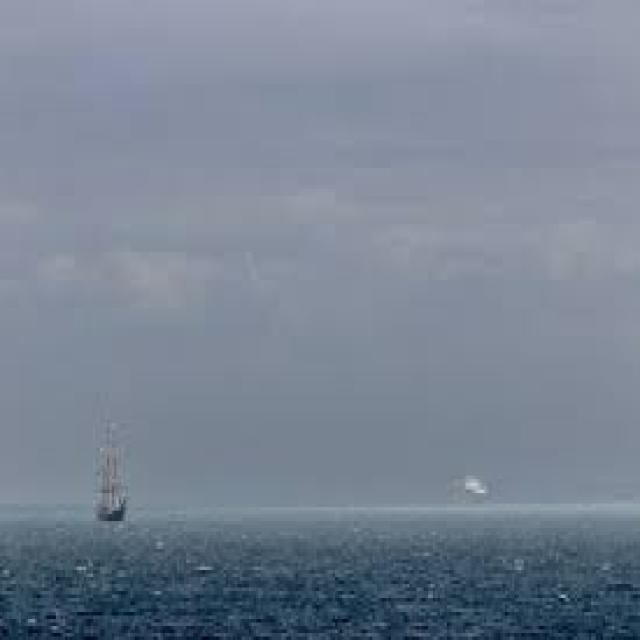fishing boat: (88, 424, 132, 527)
